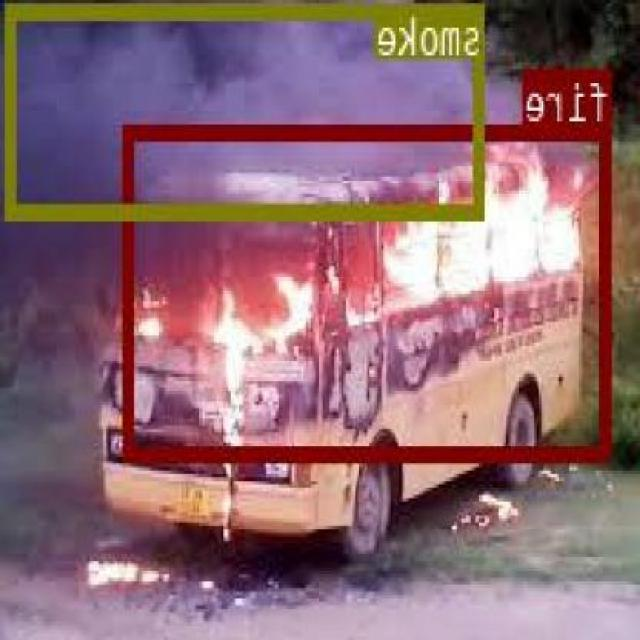Fire: (124, 125, 614, 458)
Smoke: (8, 3, 487, 216)
